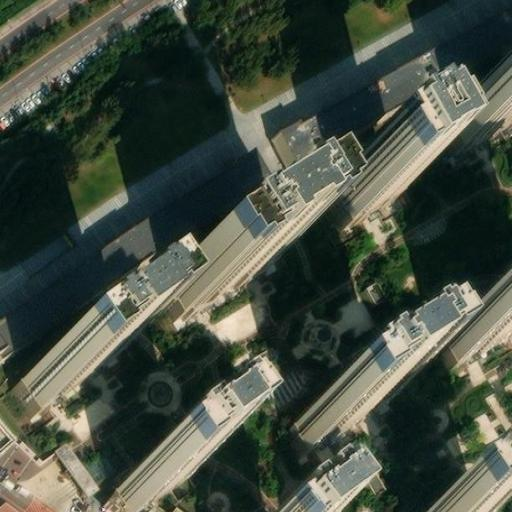building: (277, 0, 512, 162), (161, 206, 280, 301), (22, 308, 125, 398), (297, 357, 399, 434), (115, 428, 200, 504), (447, 278, 512, 351), (333, 140, 403, 205), (453, 70, 512, 135), (420, 474, 498, 512), (132, 489, 197, 512)
